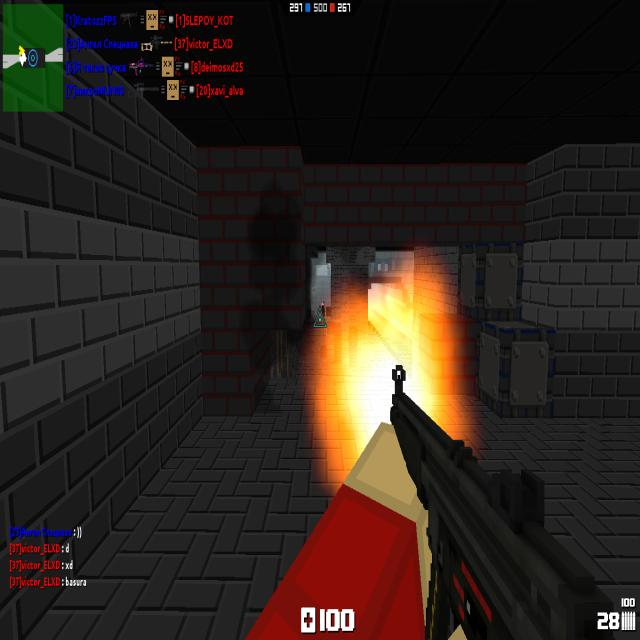enemy: (319, 301, 326, 317), (326, 264, 331, 276)
